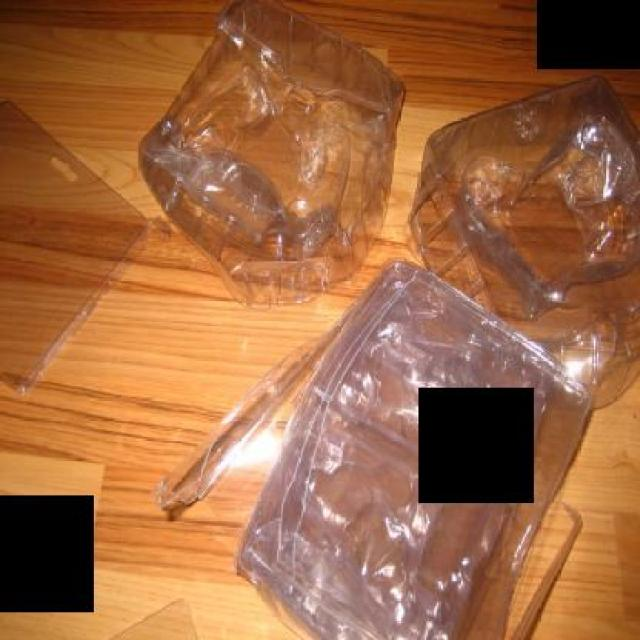plastic bag: (234, 258, 614, 640)
